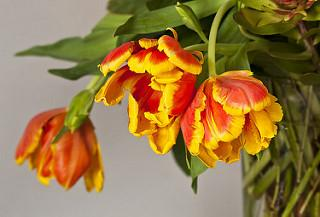tulip: (97, 33, 202, 156), (182, 72, 281, 169), (15, 106, 109, 195)
